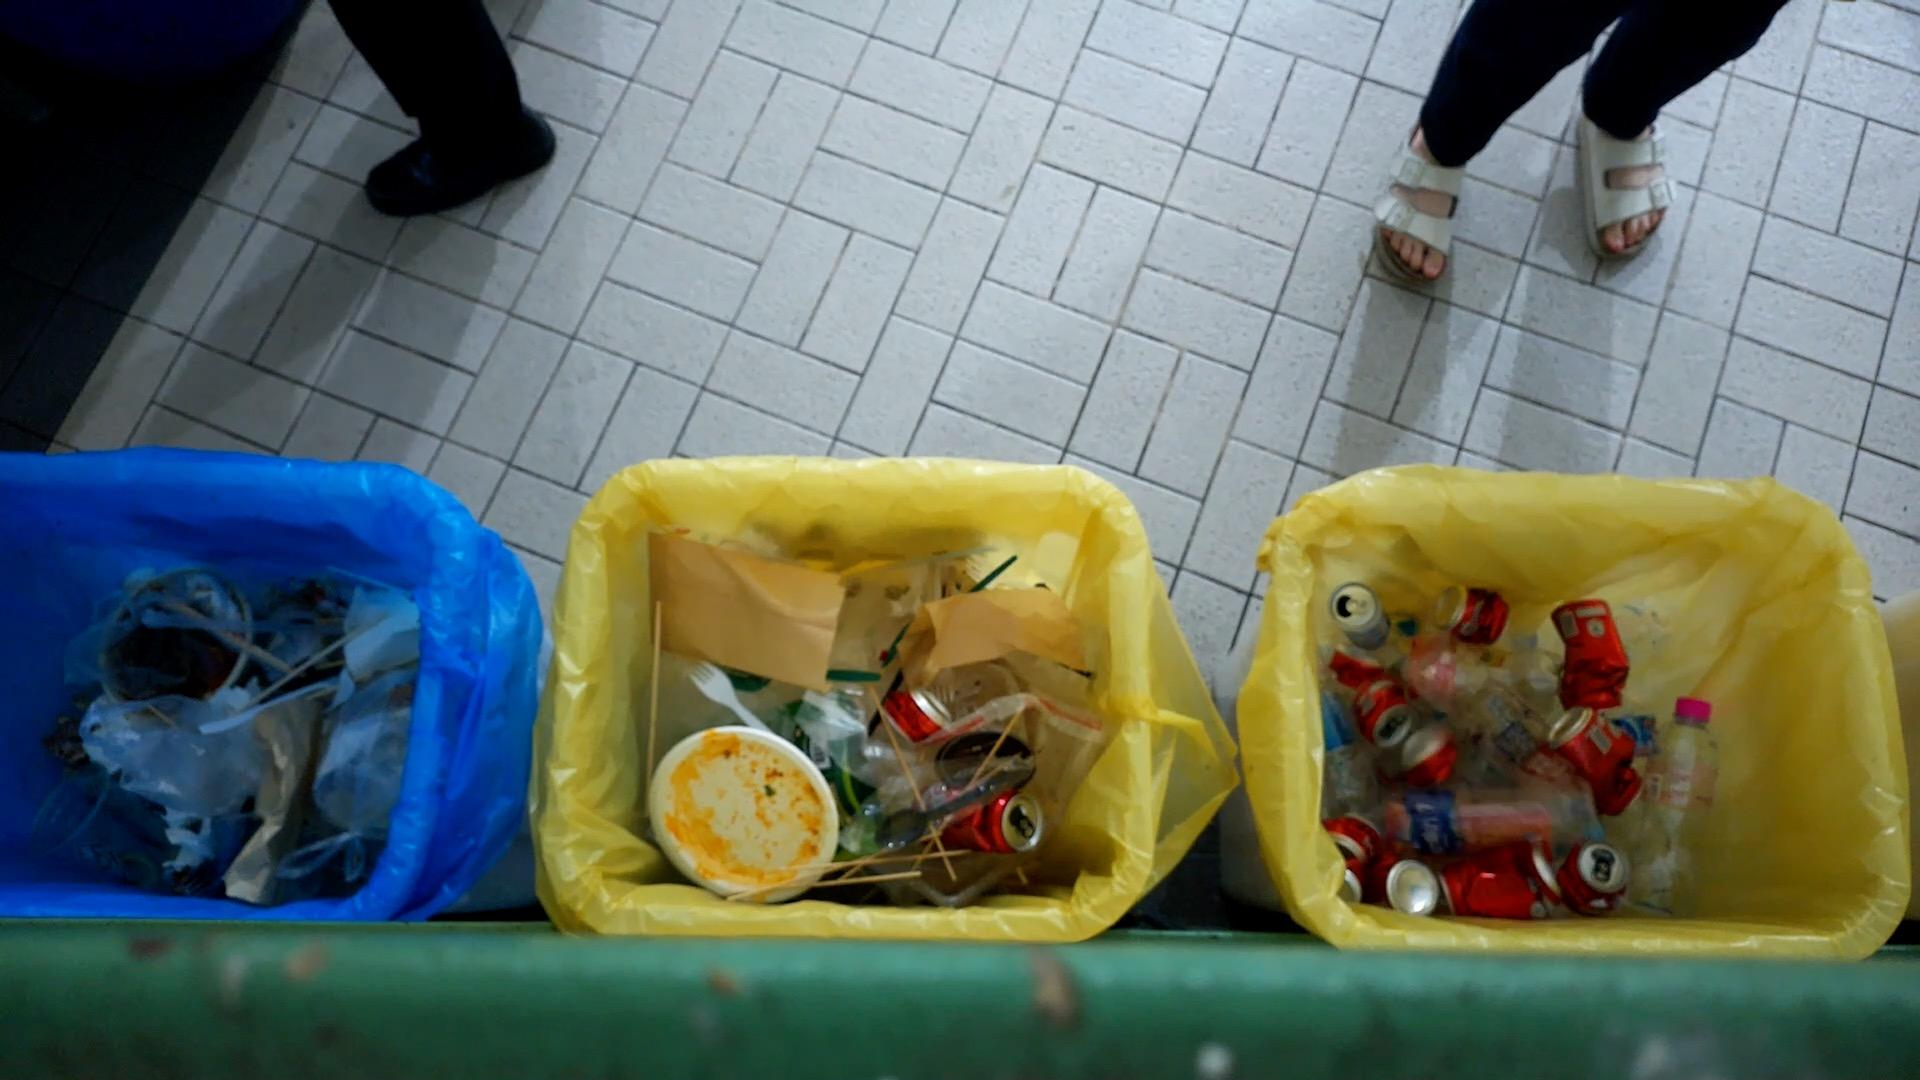can: (1548, 705, 1648, 819), (1436, 840, 1560, 919), (1329, 654, 1419, 760), (1553, 593, 1631, 711), (916, 789, 1048, 857), (1560, 841, 1633, 922), (878, 682, 956, 746), (1440, 578, 1509, 647), (1369, 852, 1443, 916), (1328, 812, 1375, 905), (1325, 583, 1394, 646), (1396, 725, 1460, 785)
dirty food container: (645, 725, 831, 902)
filled plastic bag: (273, 663, 415, 885), (90, 688, 265, 811)
paper bag: (645, 526, 848, 692), (899, 592, 1101, 721), (216, 690, 318, 910)
plastic bottle: (1336, 750, 1597, 845), (1627, 698, 1722, 919)
plastic cup: (25, 770, 177, 895)
plastic cutlery: (877, 559, 1027, 665), (874, 760, 1036, 857), (674, 659, 774, 728)
sticks: (914, 687, 1033, 869), (713, 816, 942, 907), (868, 687, 960, 882), (227, 607, 390, 712), (148, 587, 290, 679), (640, 599, 665, 790), (779, 866, 919, 893)
